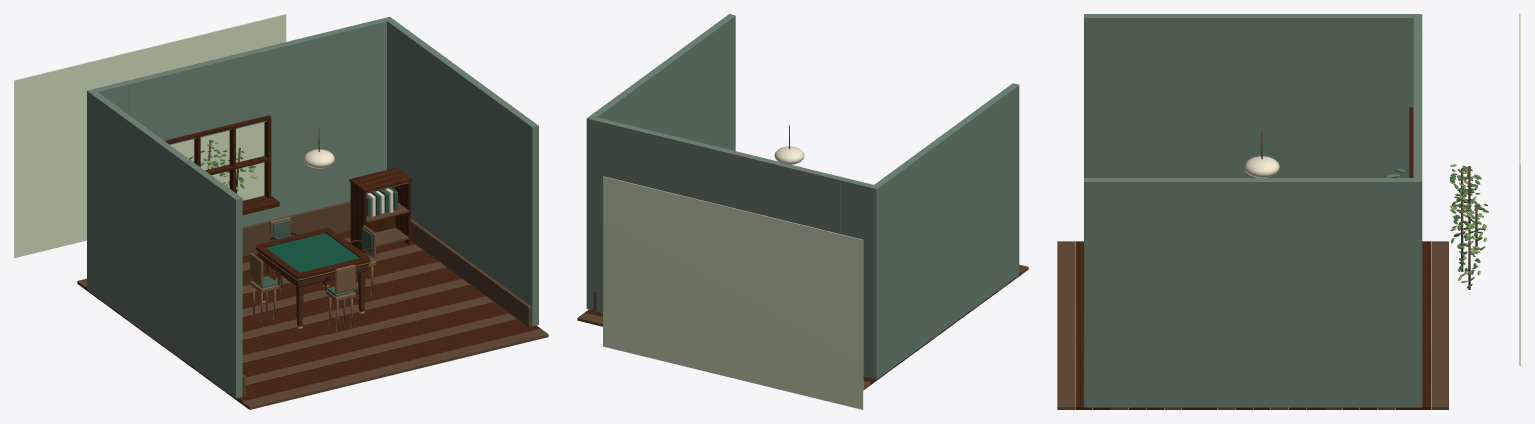
File: afternoon-room.glb
3 views of the same model, side by side, from view 1: azimuth 30°, elevation 25°; view 2: azimuth 150°, elevation 25°; view 3: azimuth 270°, elevation 25° (orthographic). The views are drawn at different scales.
Visible parts, largest first — view 1: Left wall, Side cabinet crown, Garden light beyond window, Pendant cord, Empty green felt, Walnut tabletop, Chair leg.003, Paper pendant, Chair leg.015, Book spine.006; view 2: Left wall, Garden light beyond window, Pendant cord, Paper pendant; view 3: Left wall, Pendant cord, Side cabinet crown, Plant leaf.013, Garden leaf.224, Garden light beyond window, Garden leaf.223, Paper pendant.
Part boxes in pixels (x1,y1,x2,y2): Left wall: (87, 16, 538, 398); Side cabinet crown: (85, 115, 540, 403); Garden light beyond window: (14, 14, 286, 257); Pendant cord: (77, 127, 548, 409); Empty green felt: (266, 233, 359, 272); Walnut tabletop: (256, 249, 369, 326); Chair leg.003: (326, 264, 355, 331); Paper pendant: (303, 149, 393, 216); Chair leg.015: (249, 253, 278, 322); Book spine.006: (366, 187, 397, 216); Left wall: (586, 14, 1019, 379); Garden light beyond window: (603, 176, 863, 409); Pendant cord: (577, 125, 1028, 390); Paper pendant: (774, 146, 804, 164); Left wall: (1084, 14, 1422, 407); Pendant cord: (1057, 131, 1477, 409); Side cabinet crown: (1075, 107, 1430, 409); Plant leaf.013: (1384, 167, 1485, 276); Garden leaf.224: (1450, 165, 1488, 288); Garden light beyond window: (1519, 14, 1520, 365); Garden leaf.223: (1450, 164, 1486, 282); Paper pendant: (1244, 156, 1279, 177).
Size of the model in its own units: 4.89 by 2.84 by 5.2.
21 materials, 2 textured.
